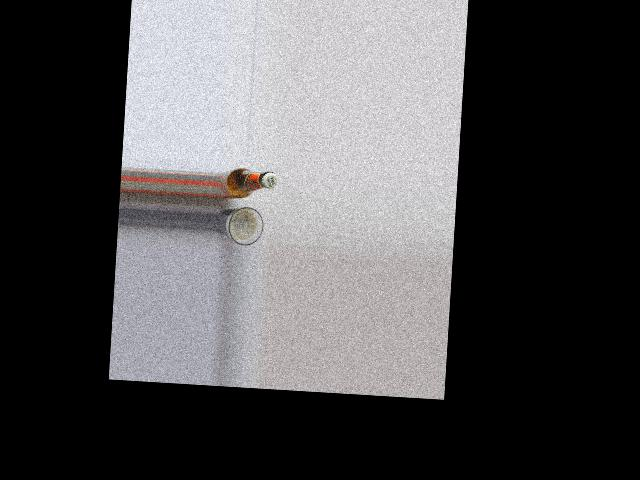beer: (218, 167, 277, 202)
